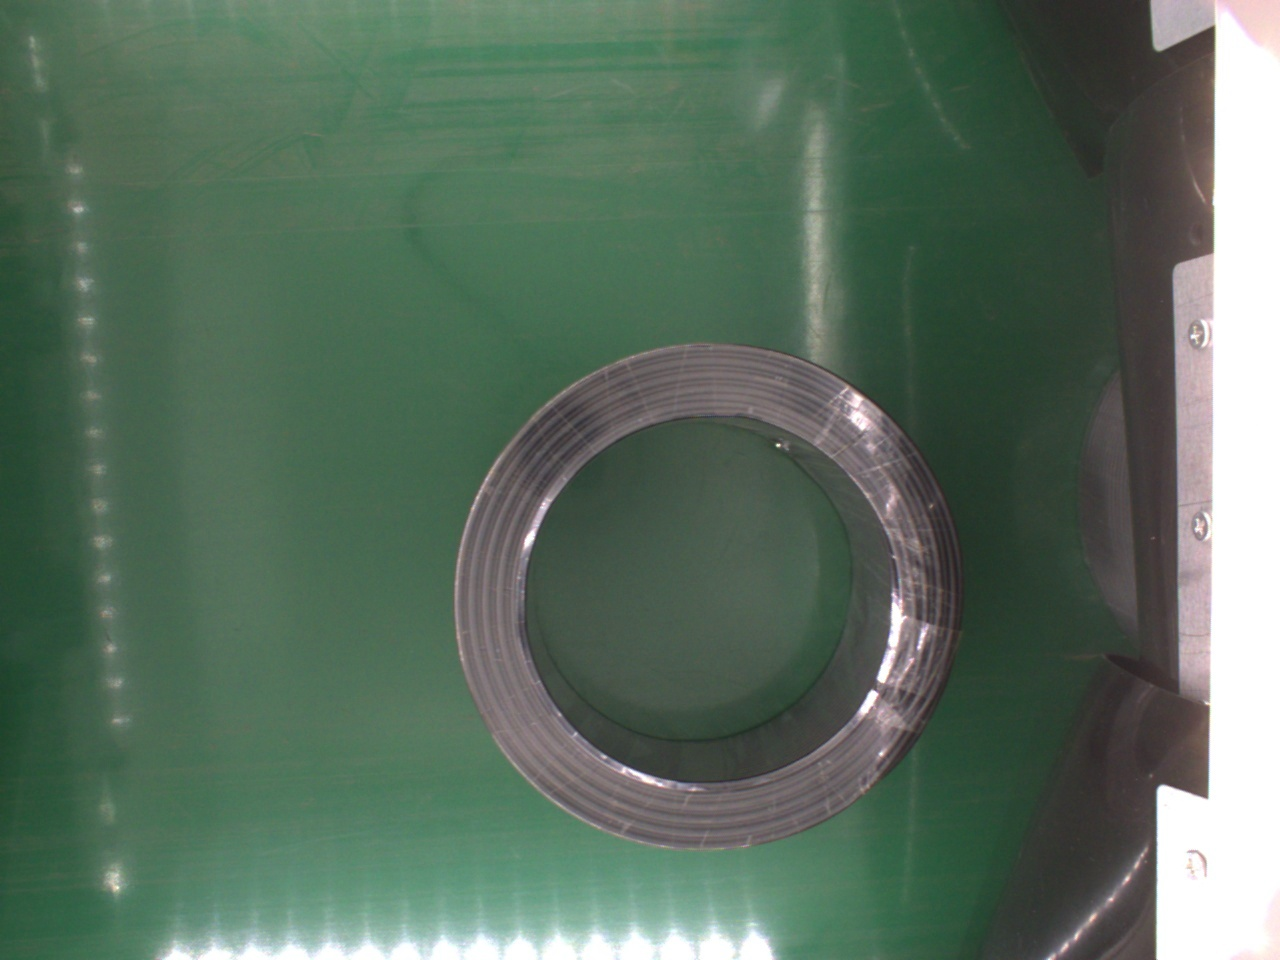black: (452, 338, 963, 856)
